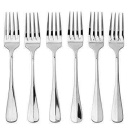fork: (107, 9, 128, 123)
